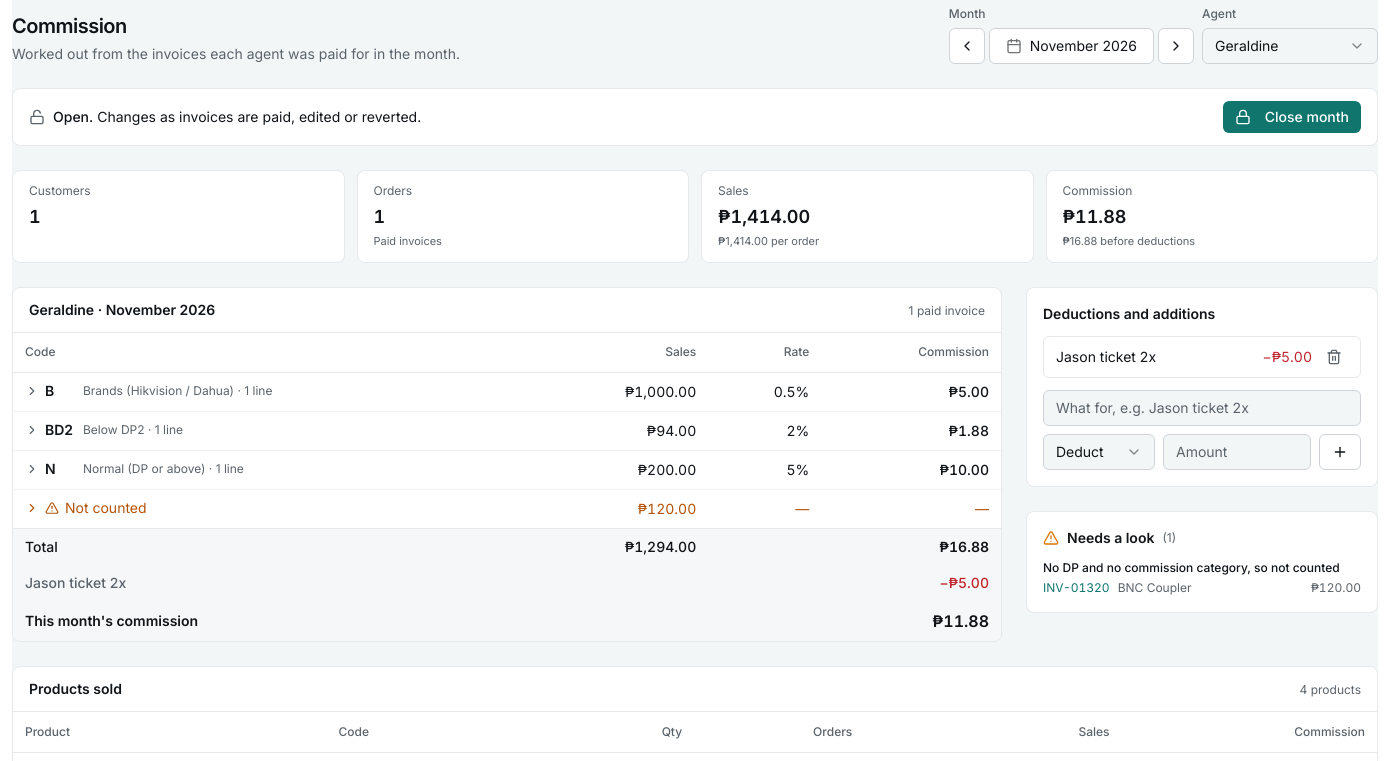
Test: CommissionPage › shows the lines behind a code when it is clicked
Click the text "BD2".
click(61, 430)  # box [45,420,77,440]
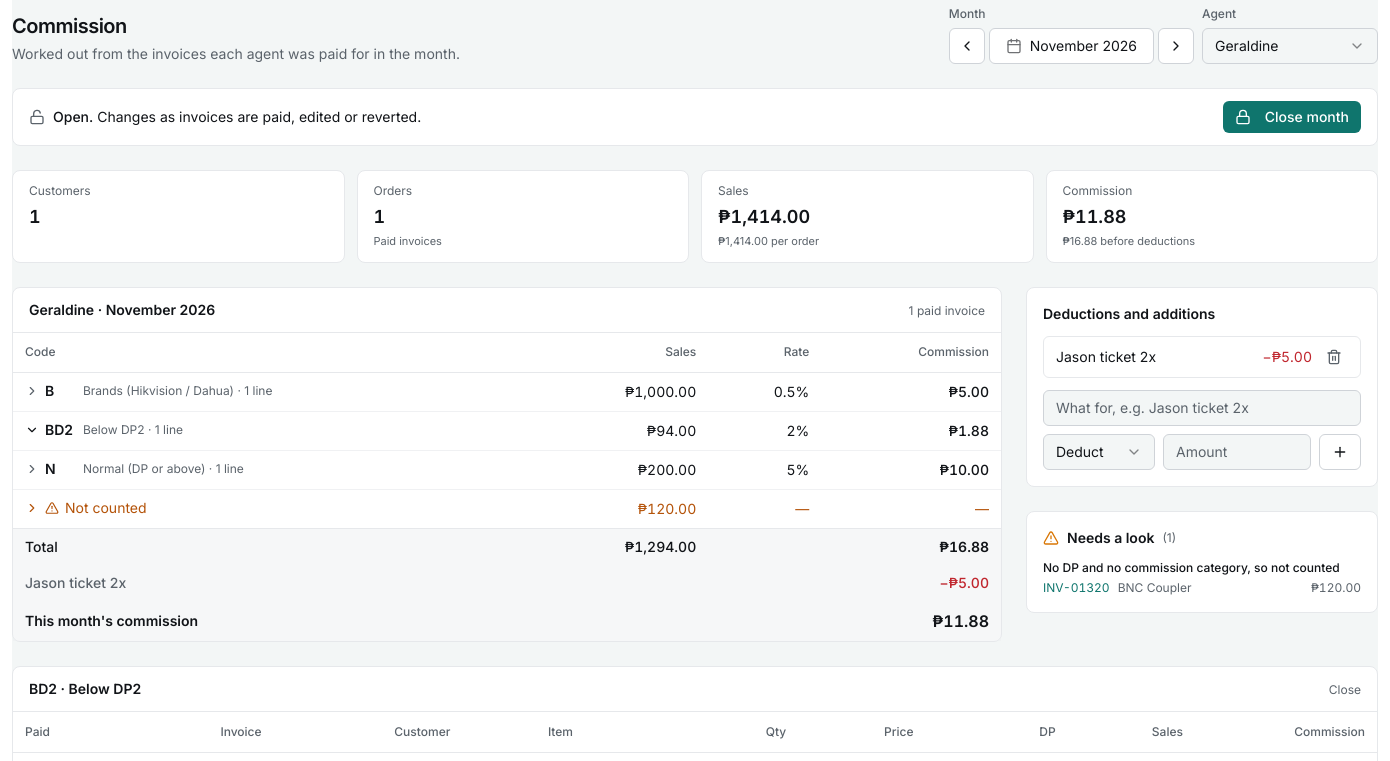
expect the button "INV-01320" below "Needs a look" is shown: met, box [1043,580,1110,596]
expect the text "Cheap shelf" is shown 2 times: met
